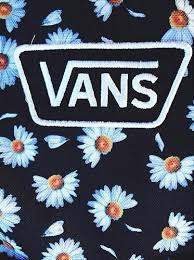vans: (38, 59, 159, 110)
